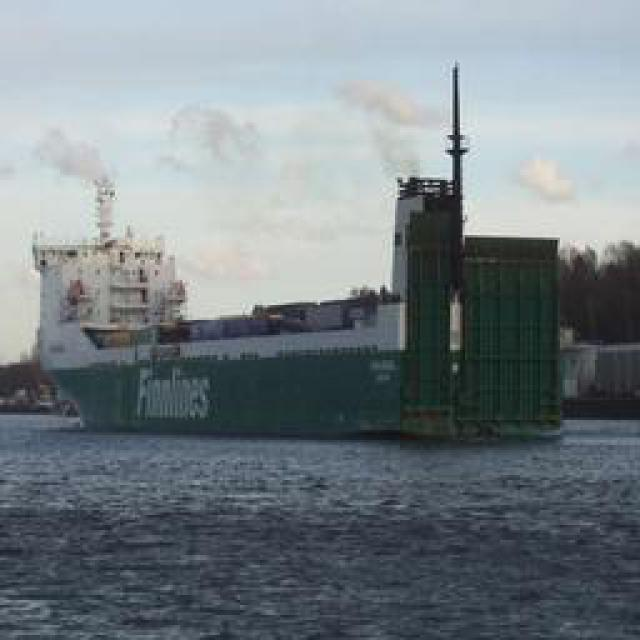Ship: (36, 125, 580, 452)
